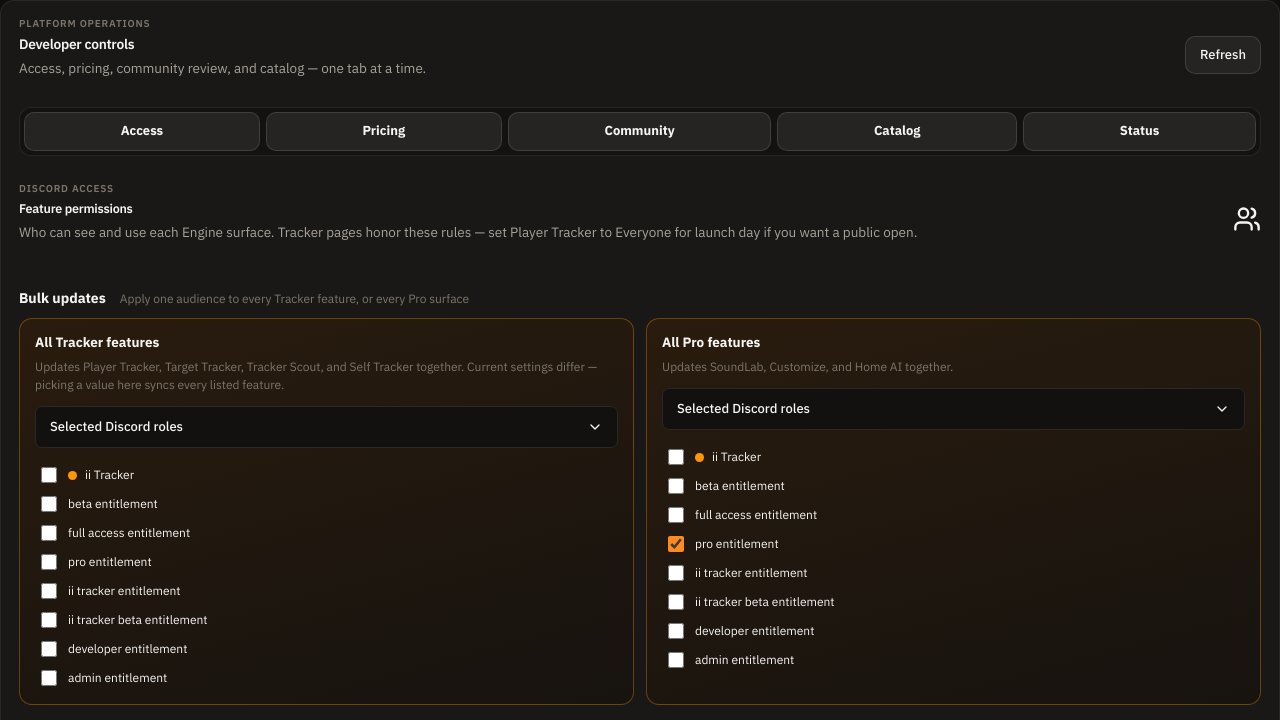
exposes Tracker solo and Pro/bundle Robux sale controls on Pricing
This screenshot has width=1280, height=720.
Expected: the tab "Access" is shown, [24,112,260,151]
Step 1. Click the tab "Pricing" → (384, 131), box [266,112,502,151]
(page scrolled)
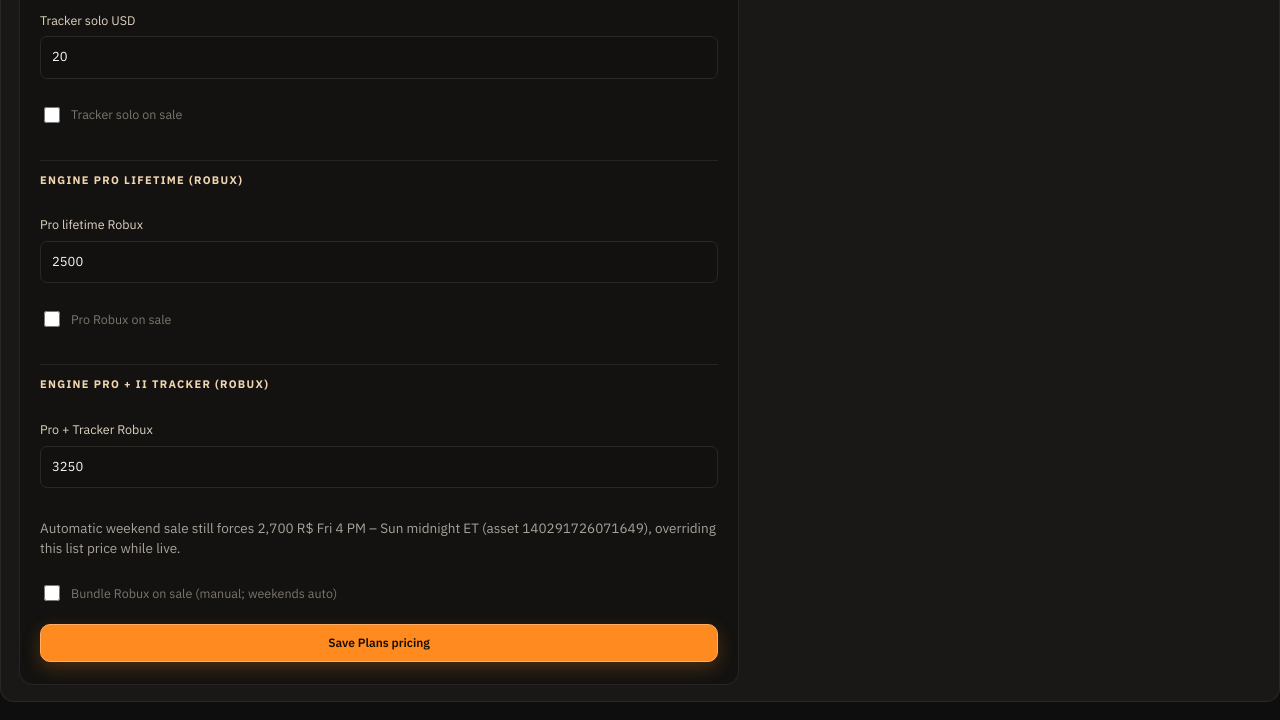
Result: the number field labelled "Tracker solo USD" holds "20" at [40,36,718,78]
Result: the number field labelled "Pro lifetime Robux" holds "2500" at [40,241,718,283]
Result: the number field labelled "Pro + Tracker Robux" holds "3250" at [40,446,718,488]
